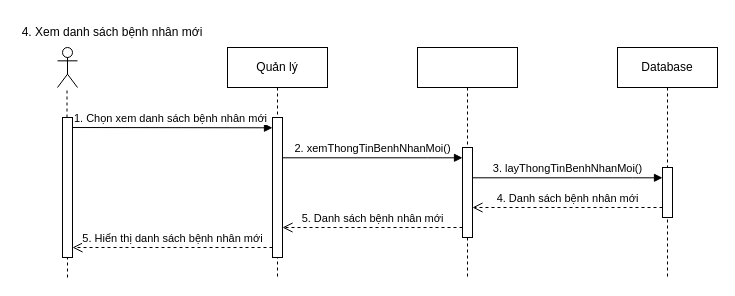
Some shapes in this 735 by 296 pixel diagram are drawn without their labels. The centre of each missing label's shape, as x and y in pixels:
"Chủ phòng khám" belongs at (67,67).
"Hệ thống" belongs at (467,162).
